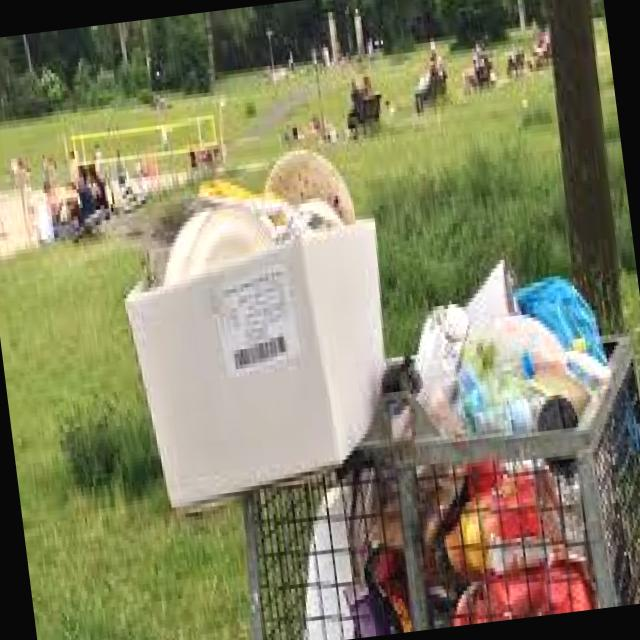garbage: (103, 111, 640, 640)
